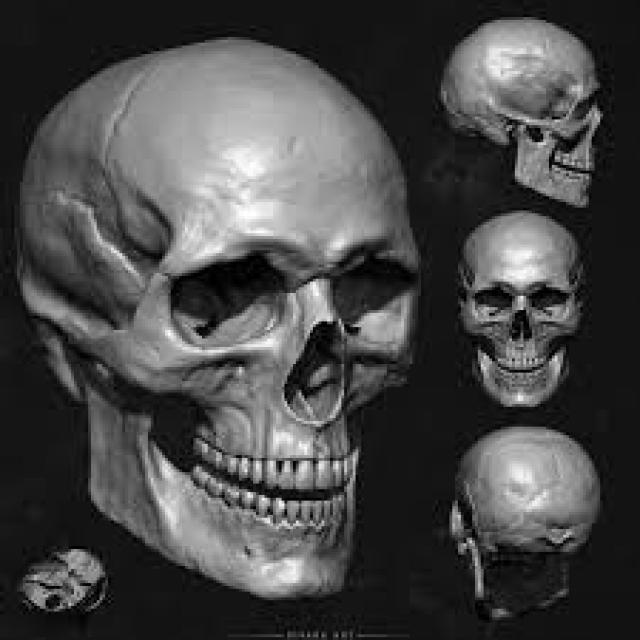skull: (7, 9, 447, 640)
